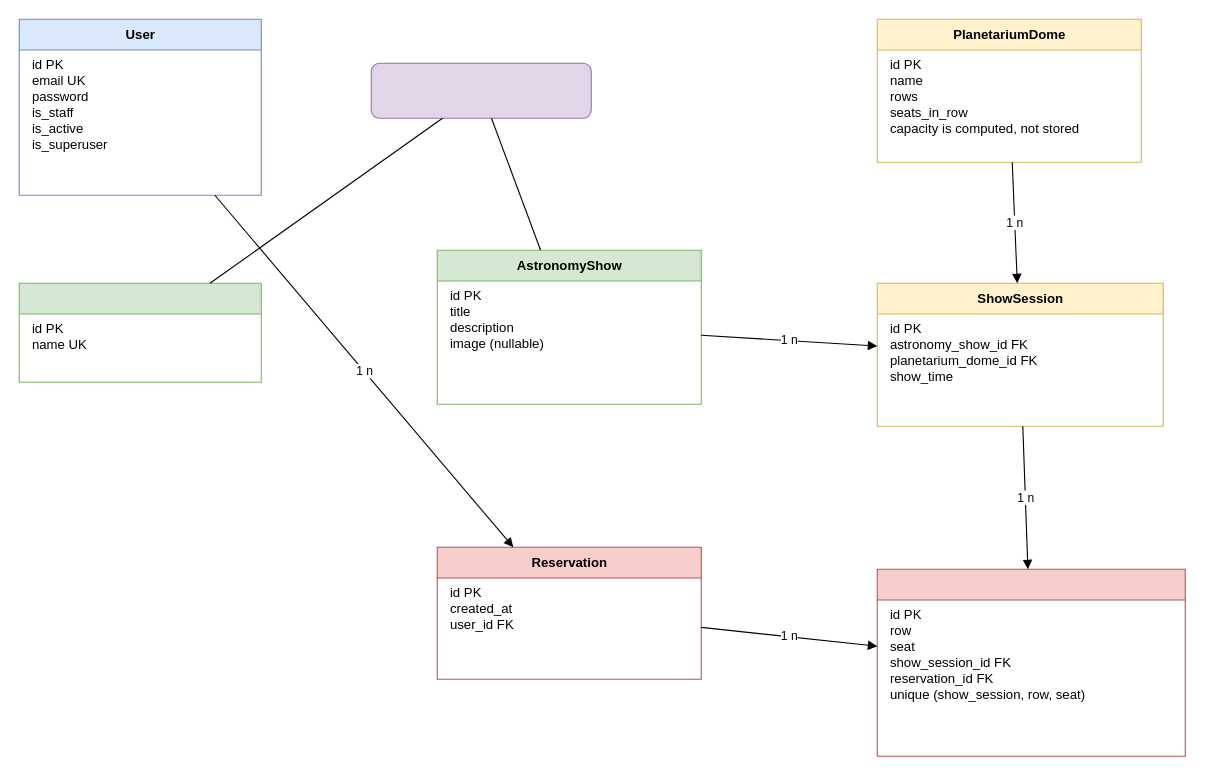
This 1205x776 diagram has some shape labels left out. The shapes that lost their labels are listed below. From the top down, each one's box as (x1, y1, x2, y2) in pixels, then its label:
(370, 62, 591, 118): AstronomyShow_show_themes
(18, 282, 261, 382): ShowTheme
(876, 568, 1185, 756): Ticket
